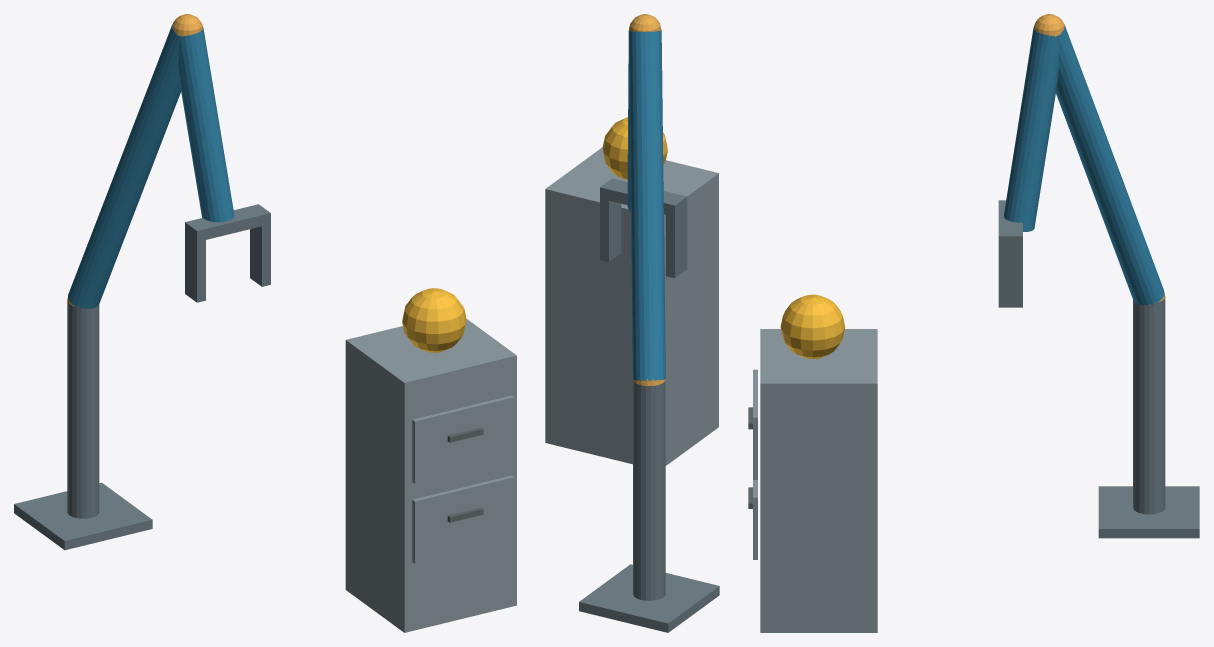
The picture shows the model from 3 angles, left to right: view 1: azimuth 30°, elevation 25°; view 2: azimuth 150°, elevation 25°; view 3: azimuth 270°, elevation 25°; orthographic projection.
Parts seen in each view (by area): view 1: cabinet_1 body, moving link 1, fixed post, cabinet_1 drawer front, cabinet_1 drawer front.001, moving link 2, pedestal, ball ball_1, gripper bridge, gripper finger -1, gripper finger 1; view 2: cabinet_1 body, moving link 1, fixed post, pedestal, gripper finger -1, ball ball_1, gripper finger 1, gripper bridge, joint 2, moving link 2; view 3: cabinet_1 body, moving link 1, fixed post, moving link 2, pedestal, ball ball_1, gripper finger 1, gripper bridge.
Boxes of the visible parts, box(x1,y1,x2,y2) form: cabinet_1 body: box(345, 319, 516, 632); moving link 1: box(68, 24, 180, 309); fixed post: box(67, 302, 99, 518); cabinet_1 drawer front: box(412, 475, 513, 563); cabinet_1 drawer front.001: box(412, 395, 513, 483); moving link 2: box(178, 27, 234, 222); pedestal: box(14, 482, 152, 550); ball ball_1: box(402, 288, 466, 352); gripper bridge: box(185, 204, 270, 241); gripper finger -1: box(185, 233, 205, 302); gripper finger 1: box(250, 224, 270, 286); cabinet_1 body: box(545, 147, 718, 465); moving link 1: box(628, 30, 665, 380); fixed post: box(633, 380, 665, 600); pedestal: box(579, 564, 719, 632); gripper finger -1: box(666, 208, 687, 278); ball ball_1: box(602, 117, 667, 180); gripper finger 1: box(600, 198, 621, 262); gripper bridge: box(600, 178, 687, 216); joint 2: box(629, 14, 661, 31); moving link 2: box(627, 38, 630, 211); cabinet_1 body: box(760, 329, 877, 632); moving link 1: box(1056, 24, 1164, 305); fixed post: box(1133, 297, 1165, 514); moving link 2: box(1004, 27, 1058, 231); pedestal: box(1098, 486, 1199, 538); ball ball_1: box(780, 294, 845, 359); gripper finger 1: box(998, 247, 1022, 307); gripper bridge: box(998, 200, 1022, 247).
Bounding box in the file's own units: 0.8043 × 1.44 × 1.12.
